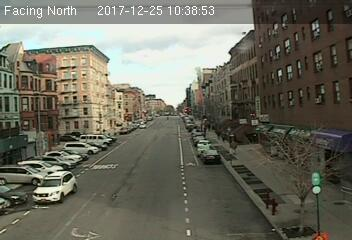car: (29, 170, 75, 203)
